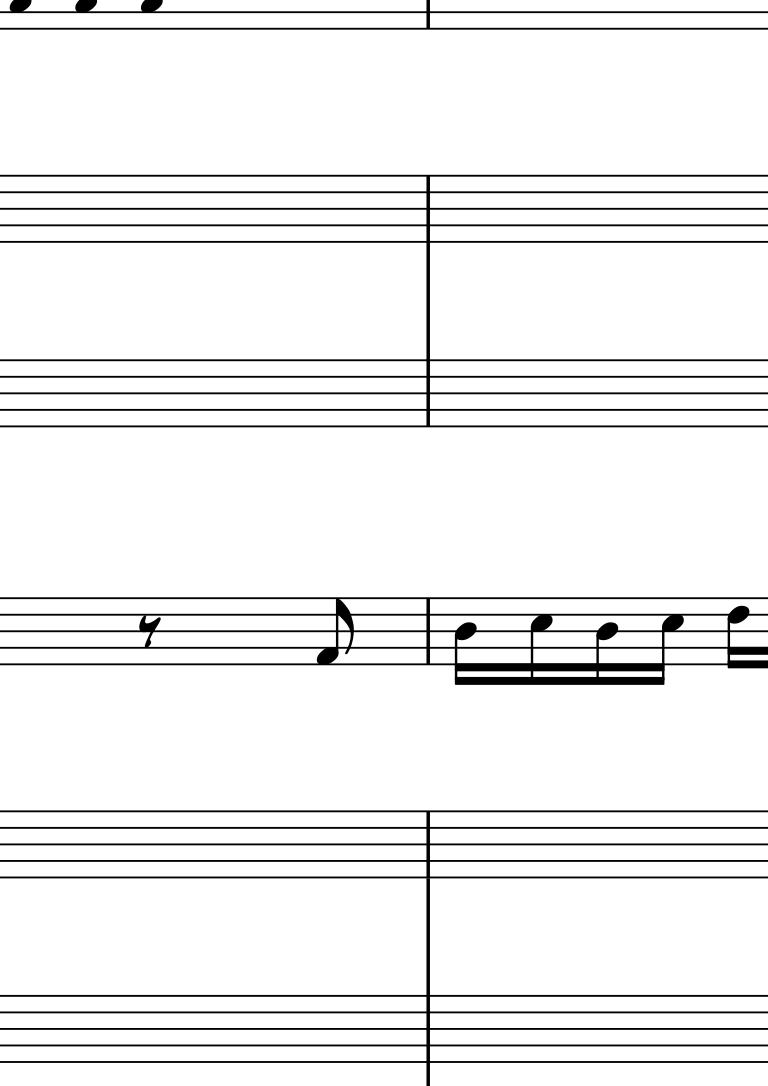16_4: (453, 596, 479, 688), (595, 595, 621, 687)
16_5: (651, 596, 685, 686), (530, 597, 554, 688)
16_6: (726, 595, 752, 671)
8_1: (315, 598, 355, 667)
Rests8: (136, 614, 164, 647)
Single_barline: (417, 995, 438, 1063), (418, 811, 438, 878), (418, 175, 437, 240), (419, 359, 437, 427), (420, 598, 437, 664)
